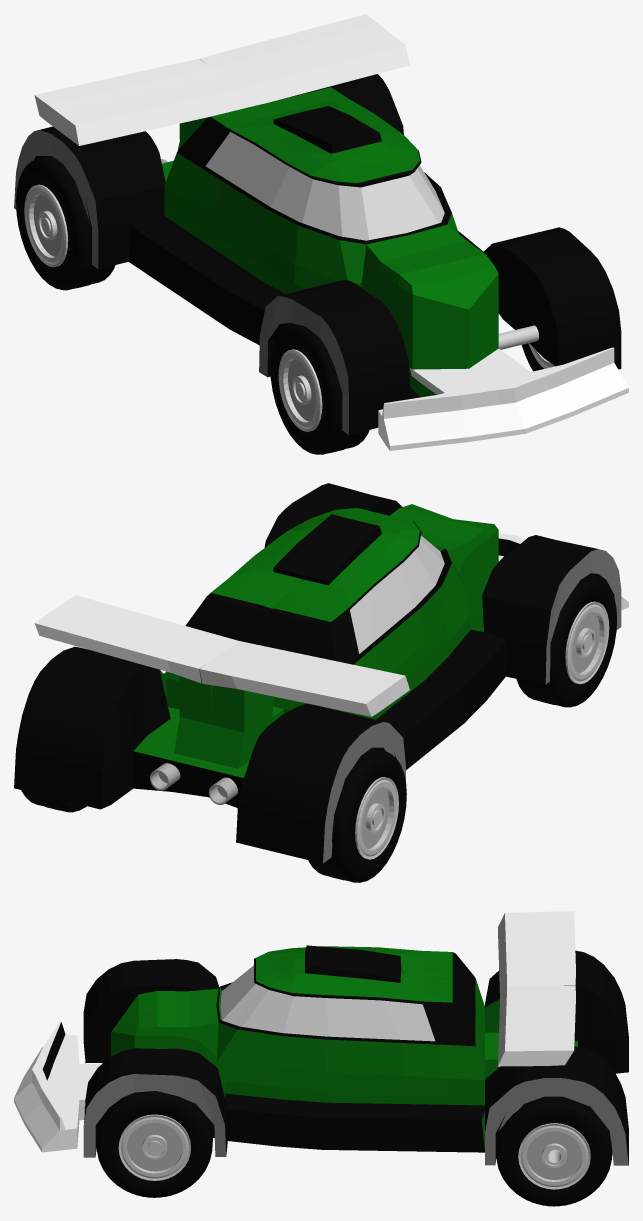
File: CR-MINI-6.fbx
3 renders of one model, top to bottom at view 1: azimuth 30°, elevation 25°; view 2: azimuth 150°, elevation 25°; view 3: azimuth 270°, elevation 25°, orthographic. The views are drawn at different scales.
Visible parts, largest first — view 1: Body, WHEEL.001, WHEEL.004; view 2: Body, WHEEL.004, WHEEL.001, WHEEL.002; view 3: Body, WHEEL.002, WHEEL.003.
Part boxes in pixels (x1,y1,x2,y2): Body: (14, 14, 628, 450); WHEEL.001: (270, 323, 538, 454); WHEEL.004: (16, 156, 115, 290); Body: (14, 483, 628, 863); WHEEL.004: (308, 748, 406, 882); WHEEL.001: (516, 574, 616, 707); WHEEL.002: (21, 790, 86, 812); Body: (14, 911, 628, 1165); WHEEL.002: (496, 1096, 612, 1206); WHEEL.003: (96, 1091, 212, 1197).
Bounding box in the file's own units: 111 × 68.11 × 206.
